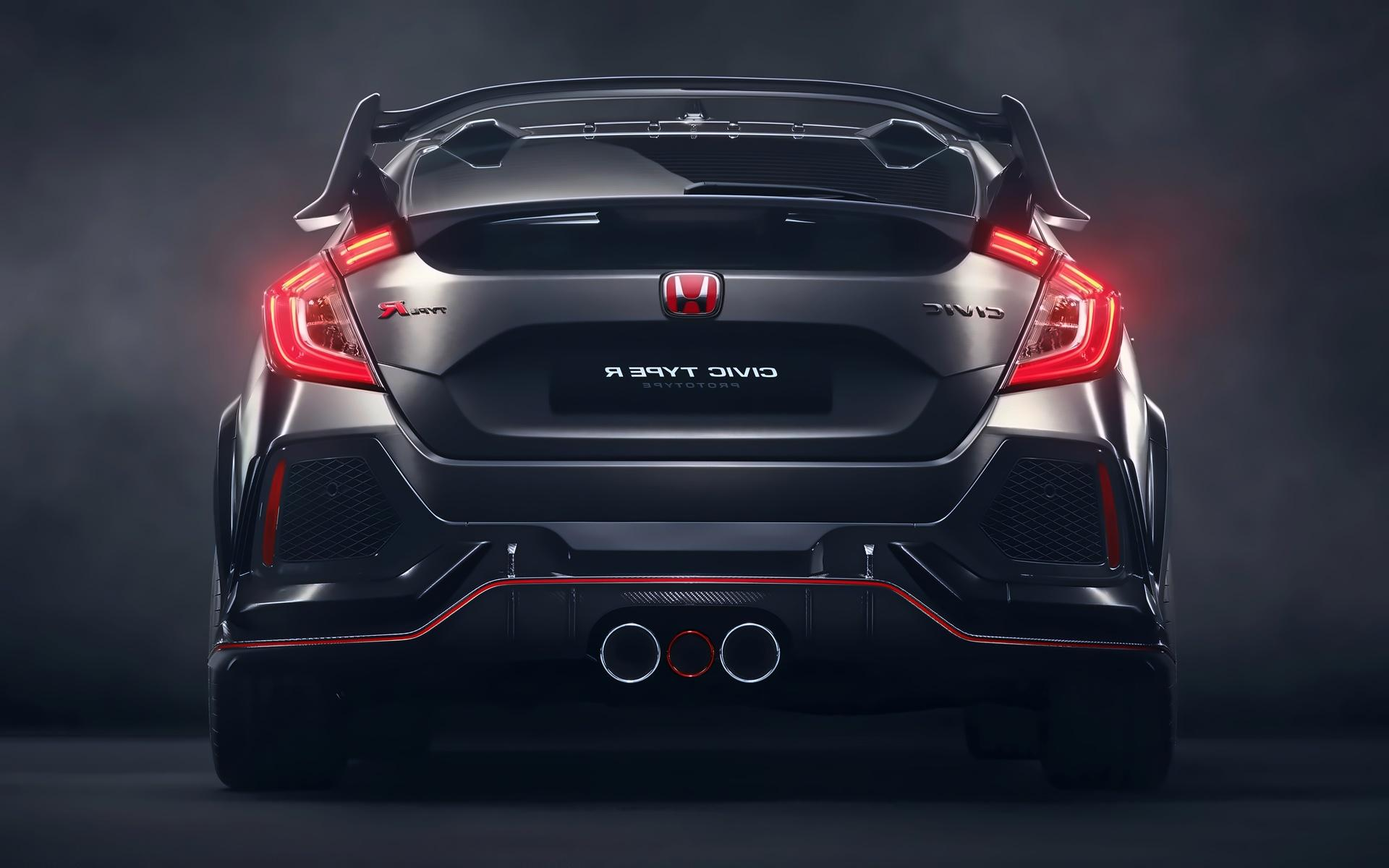Car boot: (323, 171, 1059, 478)
Rear bumper: (193, 390, 1180, 717)
Rear light - -L-: (246, 208, 430, 399)
Rear light - -R-: (965, 208, 1136, 404)
